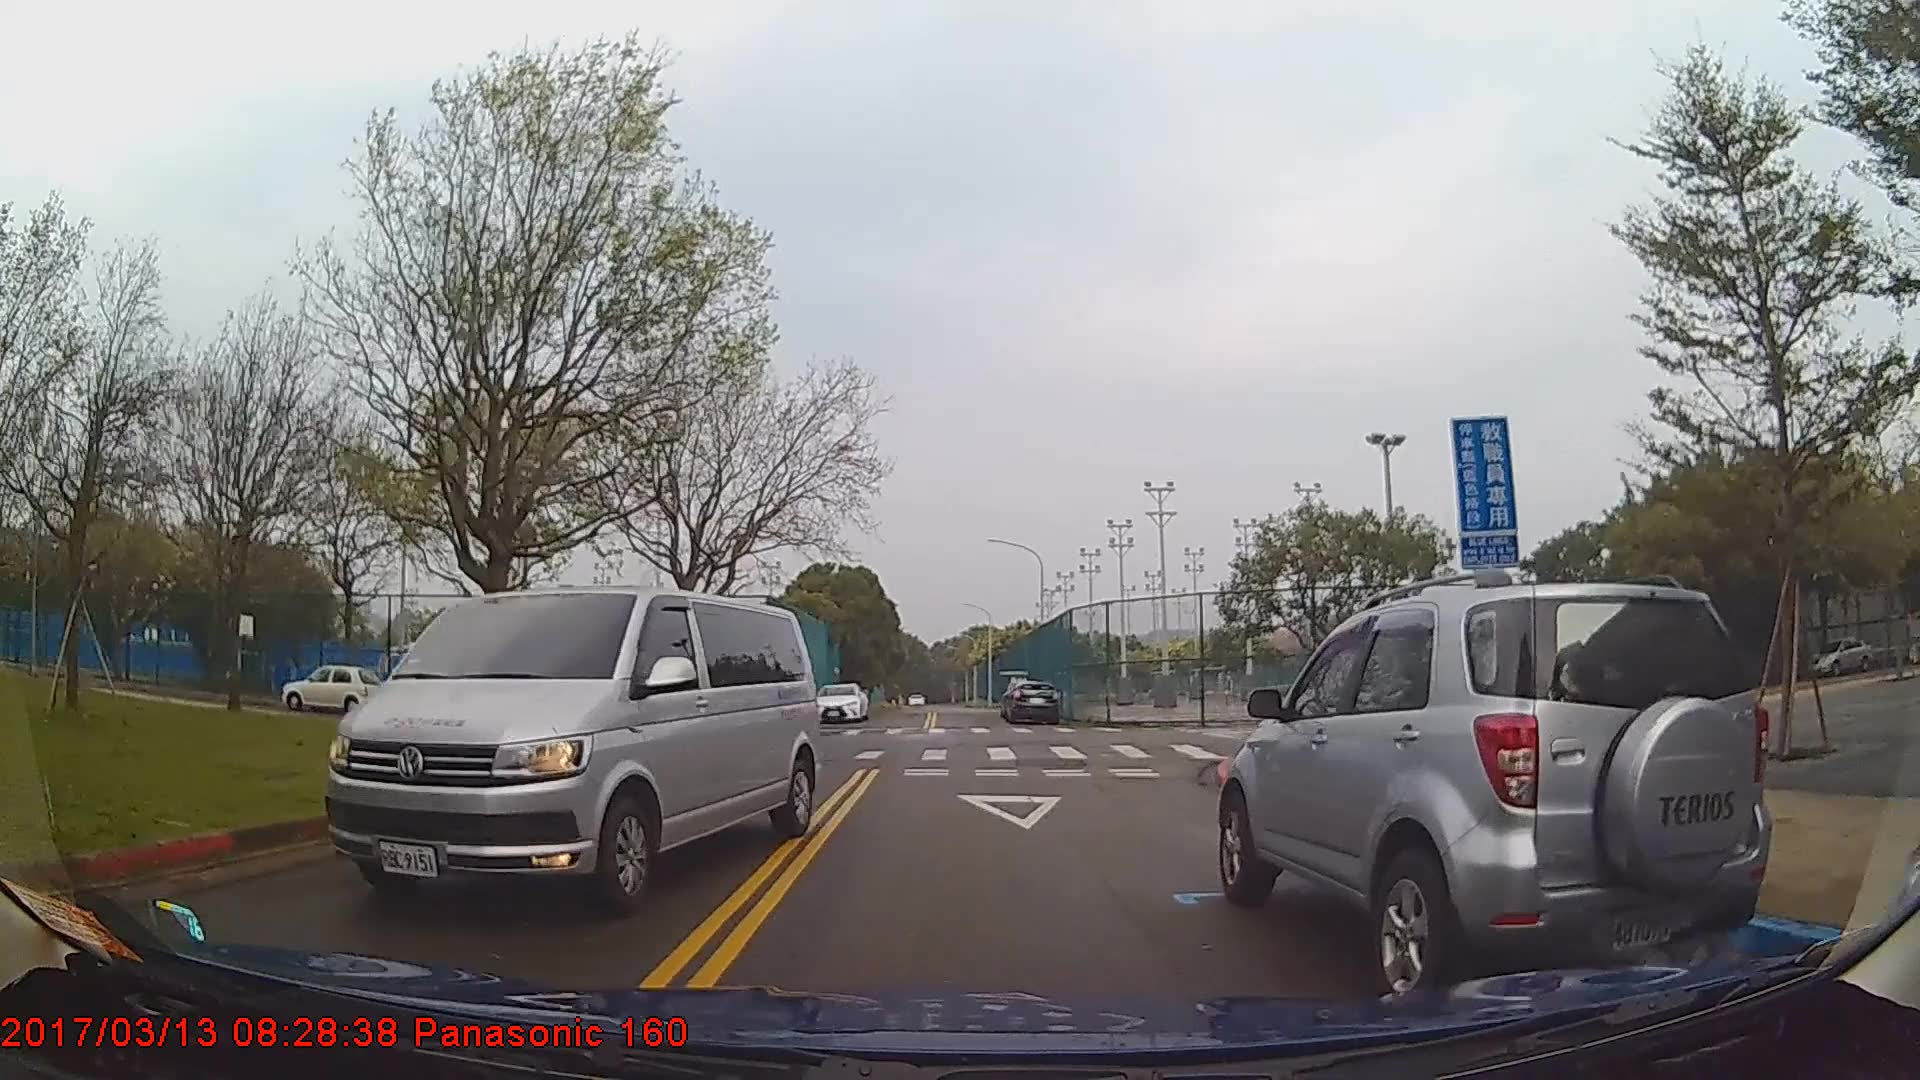vehicle: (1216, 580, 1770, 1001), (320, 587, 822, 914), (281, 665, 380, 713), (1807, 636, 1873, 678), (1004, 679, 1060, 724), (811, 680, 865, 723)
